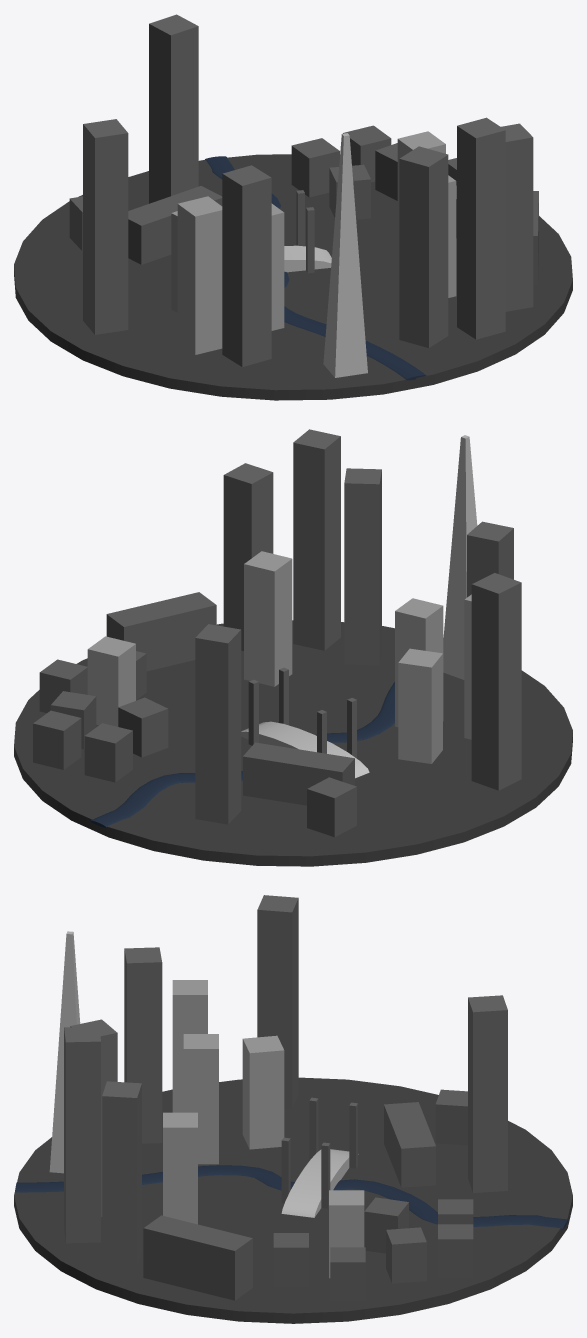
Rendered from models.fbx.
The picture shows the model from 3 angles, top to bottom: view 1: azimuth 30°, elevation 25°; view 2: azimuth 150°, elevation 25°; view 3: azimuth 270°, elevation 25°; orthographic projection.
Visible parts, largest first — view 1: ground_plane, tall_building_06, tall_building_02, tall_building_03, tall_building_04, tall_building_05, middle_building_05, shard, tall_building_01, small_wide_building_02, small_building_06, river (+11 smaller); view 2: ground_plane, tall_building_04, tall_building_06, tall_building_05, tall_building_02, middle_building_04, tall_building_01, small_wide_building_01, middle_building_02, small_wide_building_02, shard, middle_building_01 (+12 smaller); view 3: ground_plane, tall_building_06, tall_building_05, tall_building_01, small_wide_building_01, tall_building_04, tall_building_03, middle_building_02, river, middle_building_03, middle_building_04, small_wide_building_02 (+13 smaller).
Boxes of the visible parts, x1=… form: ground_plane: x1=14, y1=154, x2=572, y2=400; tall_building_06: x1=457, y1=117, x2=505, y2=339; tall_building_02: x1=399, y1=146, x2=448, y2=347; tall_building_03: x1=222, y1=165, x2=271, y2=366; tall_building_04: x1=83, y1=119, x2=128, y2=334; tall_building_05: x1=149, y1=14, x2=198, y2=203; middle_building_05: x1=177, y1=196, x2=222, y2=354; shard: x1=323, y1=133, x2=367, y2=377; tall_building_01: x1=501, y1=123, x2=533, y2=311; small_wide_building_02: x1=128, y1=186, x2=222, y2=264; small_building_06: x1=291, y1=138, x2=339, y2=197; river: x1=205, y1=156, x2=426, y2=380; ground_plane: x1=14, y1=620, x2=572, y2=866; tall_building_04: x1=471, y1=573, x2=521, y2=790; tall_building_06: x1=293, y1=429, x2=340, y2=650; tall_building_05: x1=195, y1=624, x2=241, y2=824; tall_building_02: x1=344, y1=468, x2=381, y2=665; middle_building_04: x1=244, y1=551, x2=292, y2=686; tall_building_01: x1=223, y1=463, x2=273, y2=650; small_wide_building_01: x1=106, y1=592, x2=216, y2=671; middle_building_02: x1=398, y1=648, x2=442, y2=763; small_wide_building_02: x1=243, y1=742, x2=354, y2=805; shard: x1=443, y1=435, x2=477, y2=679; middle_building_01: x1=87, y1=636, x2=135, y2=726; ground_plane: x1=14, y1=1077, x2=572, y2=1323; tall_building_06: x1=64, y1=1026, x2=100, y2=1243; tall_building_05: x1=468, y1=995, x2=507, y2=1192; tall_building_01: x1=102, y1=1081, x2=141, y2=1267; small_wide_building_01: x1=143, y1=1215, x2=252, y2=1300; tall_building_04: x1=257, y1=895, x2=298, y2=1108; tall_building_03: x1=124, y1=947, x2=162, y2=1143; middle_building_02: x1=242, y1=1035, x2=284, y2=1149; river: x1=15, y1=1165, x2=568, y2=1229; middle_building_03: x1=183, y1=1034, x2=218, y2=1164; middle_building_04: x1=163, y1=1112, x2=197, y2=1224; small_wide_building_02: x1=384, y1=1102, x2=435, y2=1187.
Bounding box in the file's own units: 48.9 × 23.53 × 48.9.
